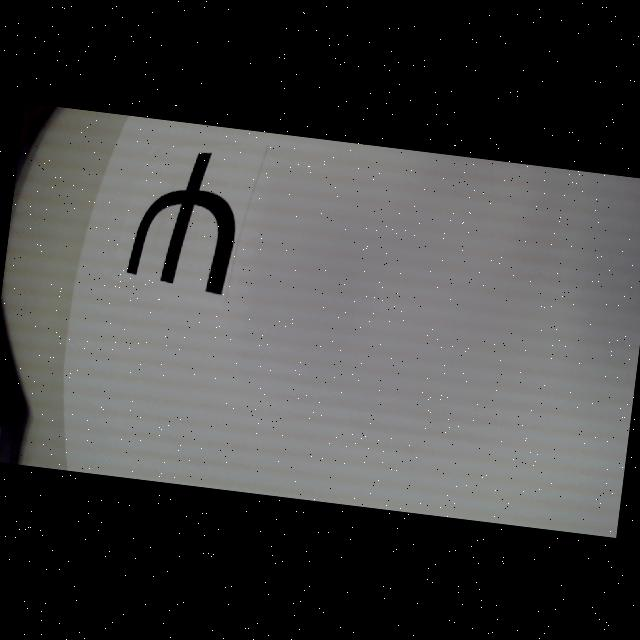PSI: (124, 142, 245, 295)
